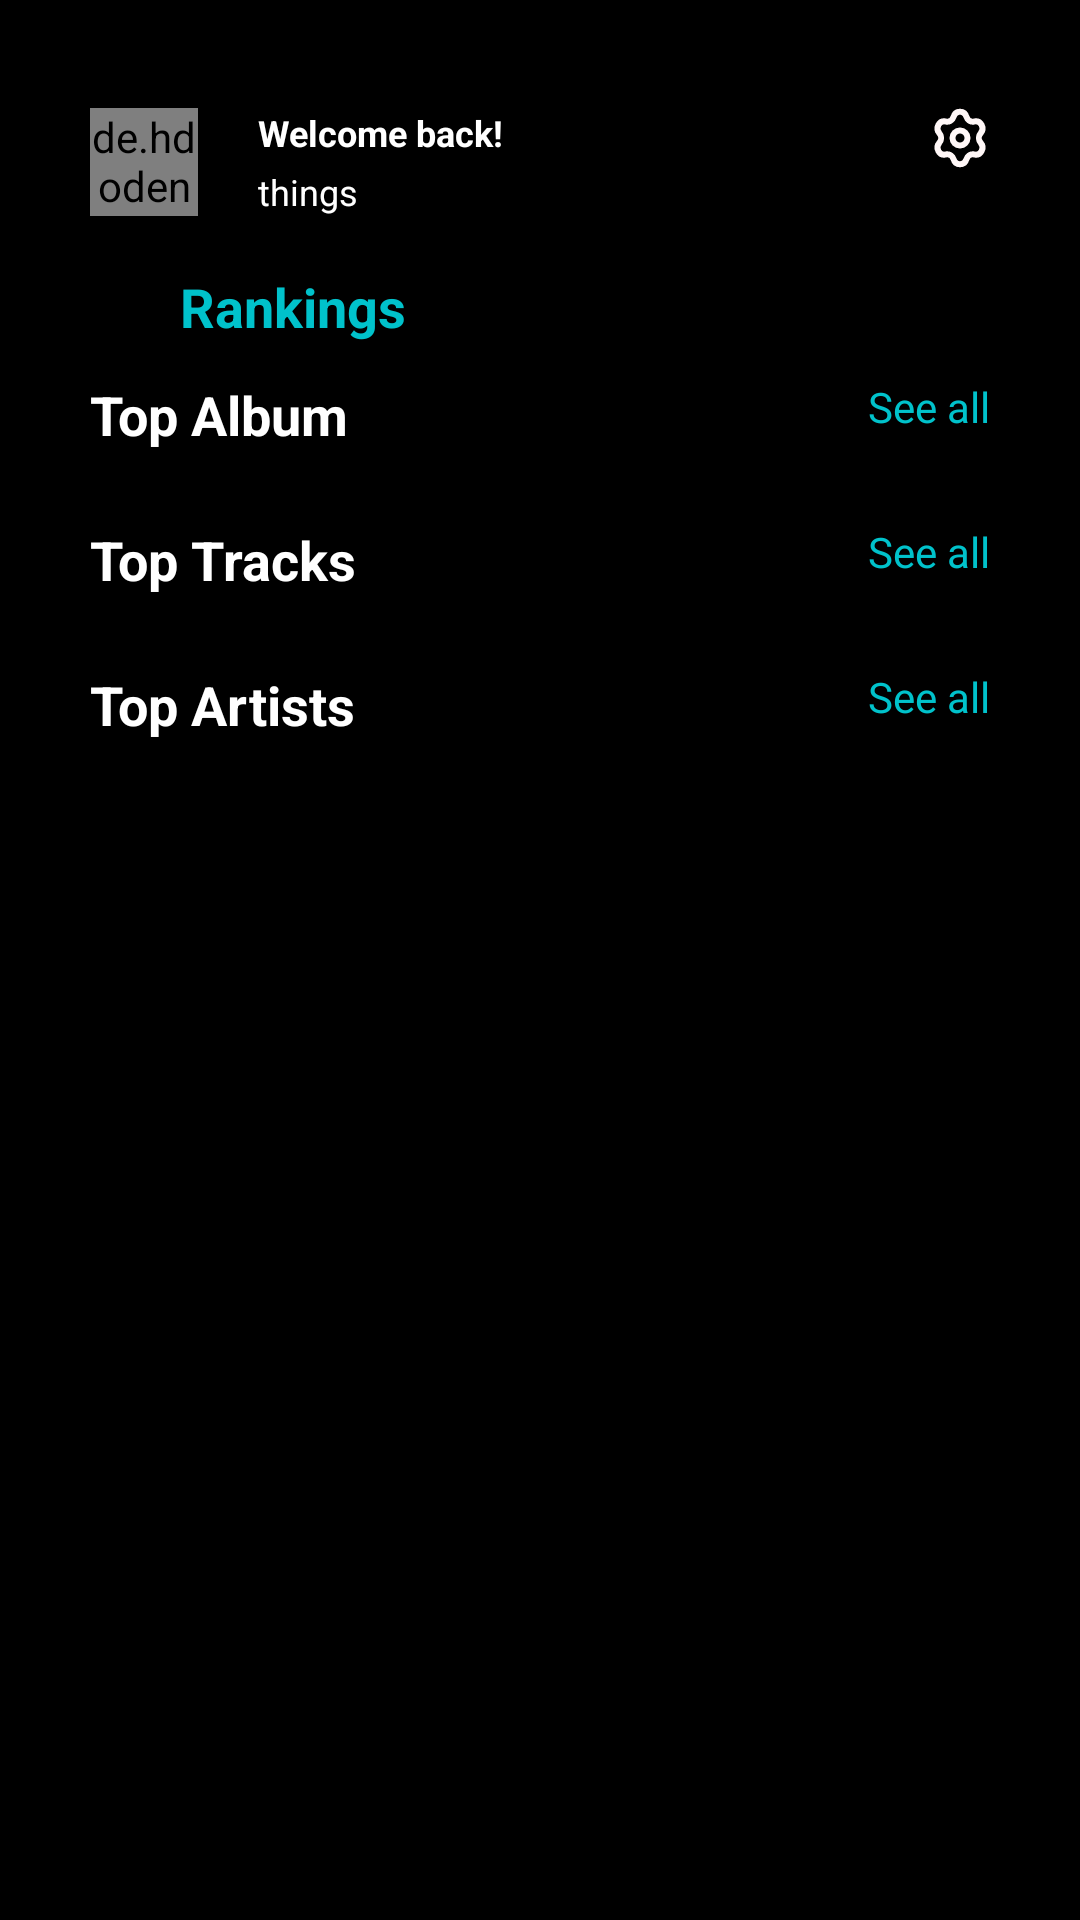

Screen size 1080px×1920px. Icon name, then its box in pixels as box(x1, y1, x2, y2):
settings: box(934, 108, 986, 168)
